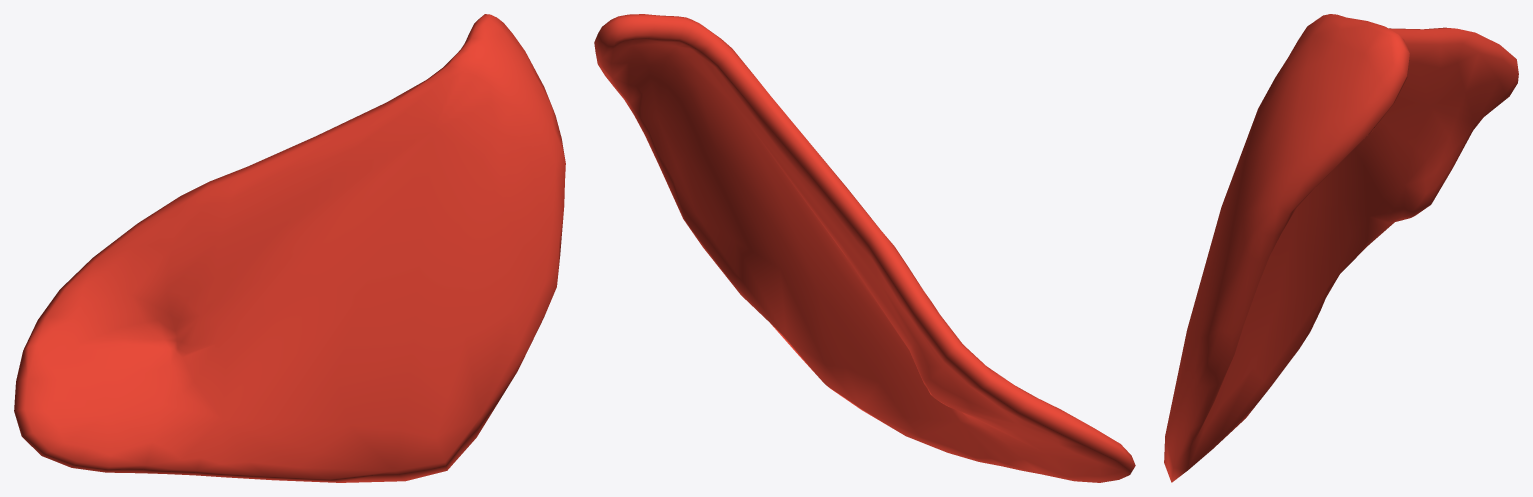
The model's file is Deep_head_of_flexor_pollicis_brevis_on_tubercle_of_trapezium.r_.glb.
3 renders of one model, left to right at view 1: azimuth 30°, elevation 25°; view 2: azimuth 150°, elevation 25°; view 3: azimuth 270°, elevation 25°, orthographic. The views are drawn at different scales.
Visible parts, largest first — view 1: Deep_head_of_flexor_pollicis_brevis_on_tubercle_of_trapezium; view 2: Deep_head_of_flexor_pollicis_brevis_on_tubercle_of_trapezium; view 3: Deep_head_of_flexor_pollicis_brevis_on_tubercle_of_trapezium.
Part boxes in pixels (x1,y1,x2,y2): Deep_head_of_flexor_pollicis_brevis_on_tubercle_of_trapezium: (14, 14, 565, 482); Deep_head_of_flexor_pollicis_brevis_on_tubercle_of_trapezium: (594, 14, 1135, 482); Deep_head_of_flexor_pollicis_brevis_on_tubercle_of_trapezium: (1164, 14, 1518, 482).
Bounding box in the file's own units: 0.0113 × 0.00807 × 0.0048.
